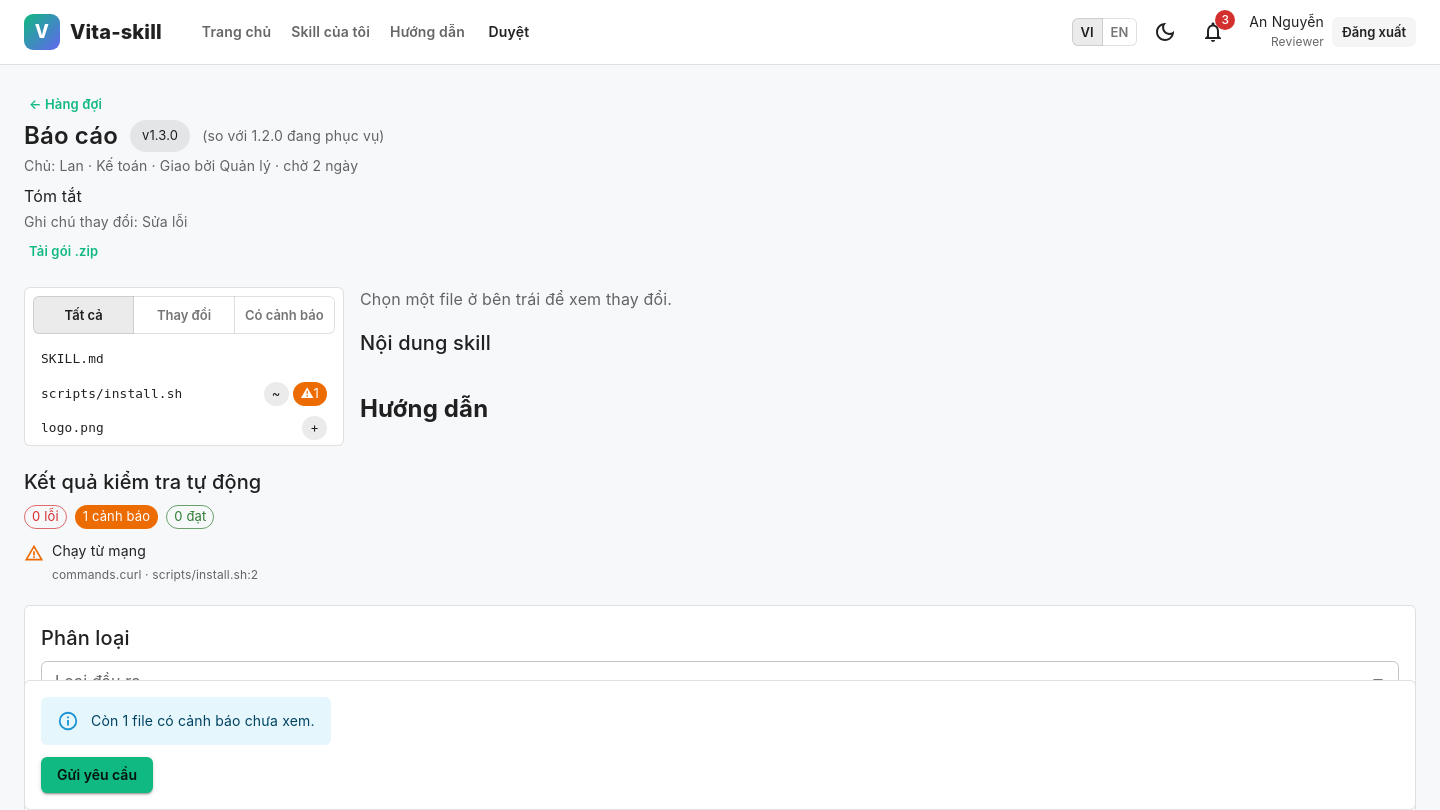
ReviewDetailPage › nhắc số file cảnh báo chưa xem và hết nhắc sau khi mở
Expected: the text "Còn 1 file có cảnh báo chưa xem." is shown, [91,712,315,728]
Click the text "scripts/install.sh": point(112, 393) [41,386,182,401]
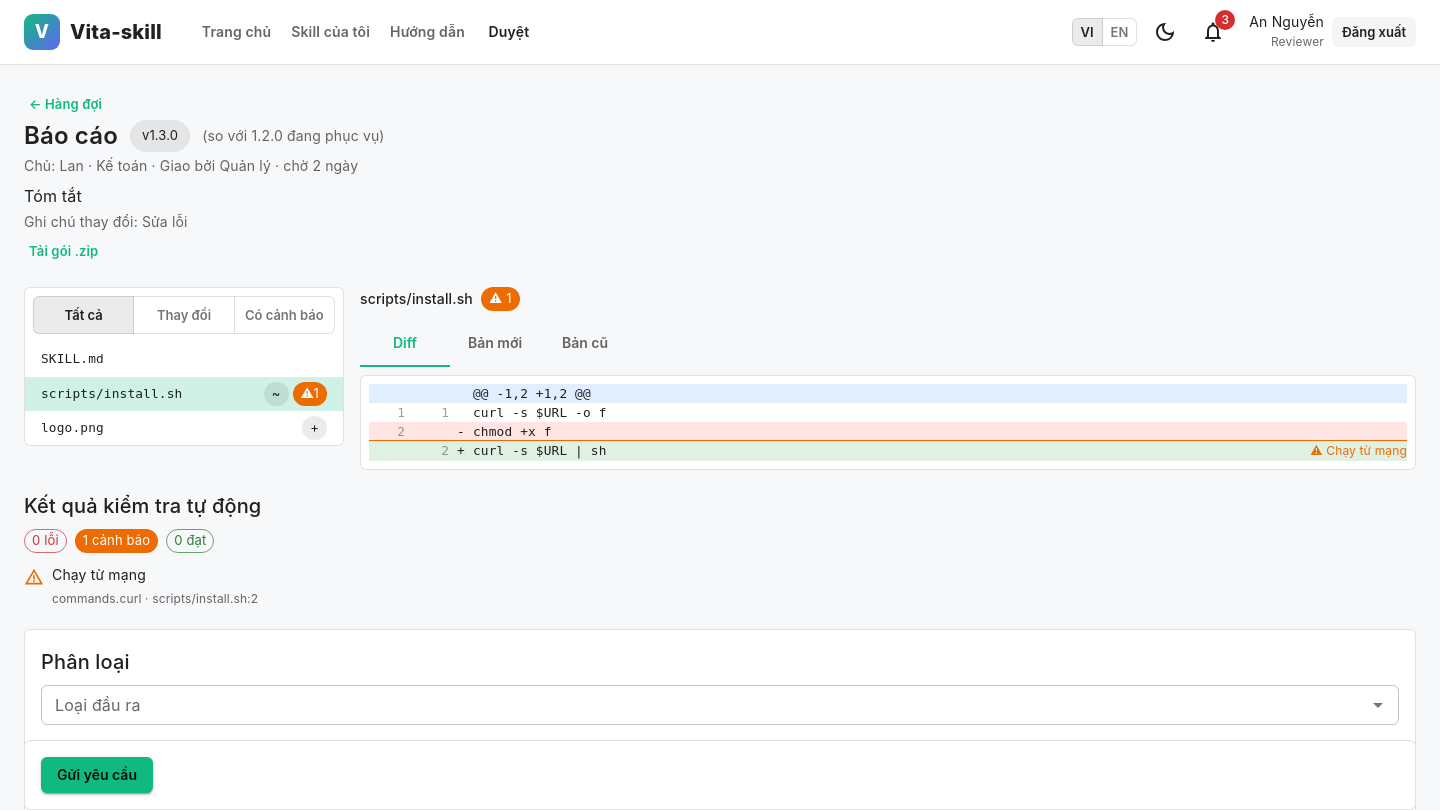
Expected: the text "Còn 1 file có cảnh báo chưa xem." is gone
